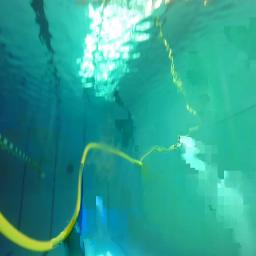Full: (64, 164, 76, 172)
